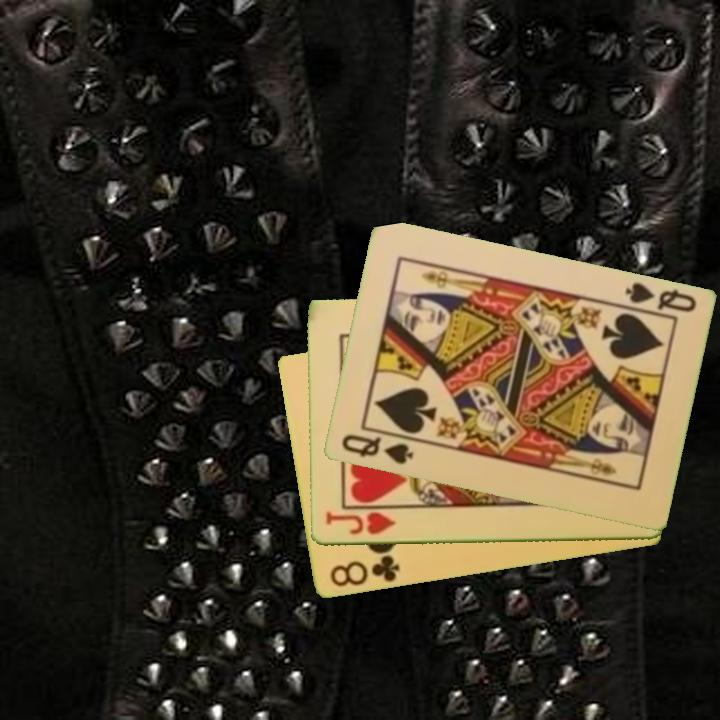8c: (326, 552, 403, 590)
Jh: (322, 509, 398, 538)
Qs: (617, 279, 699, 321), (337, 431, 416, 468)
